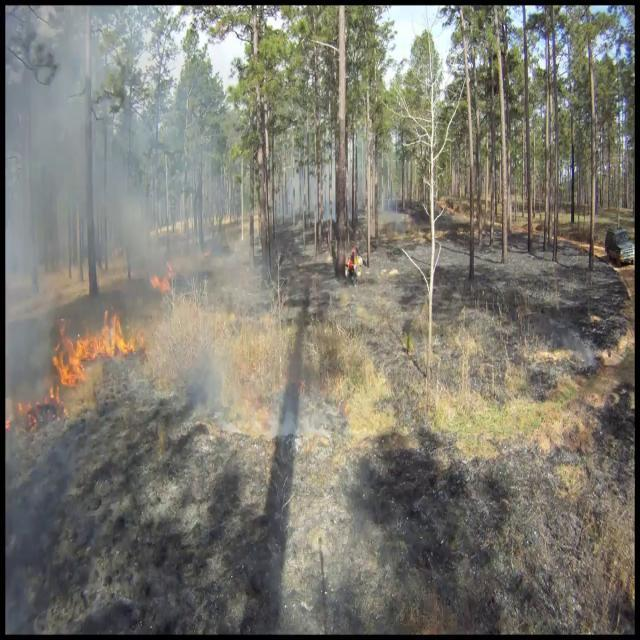Fire: (44, 302, 138, 398), (148, 262, 174, 296)
Smoke: (6, 4, 204, 346)
